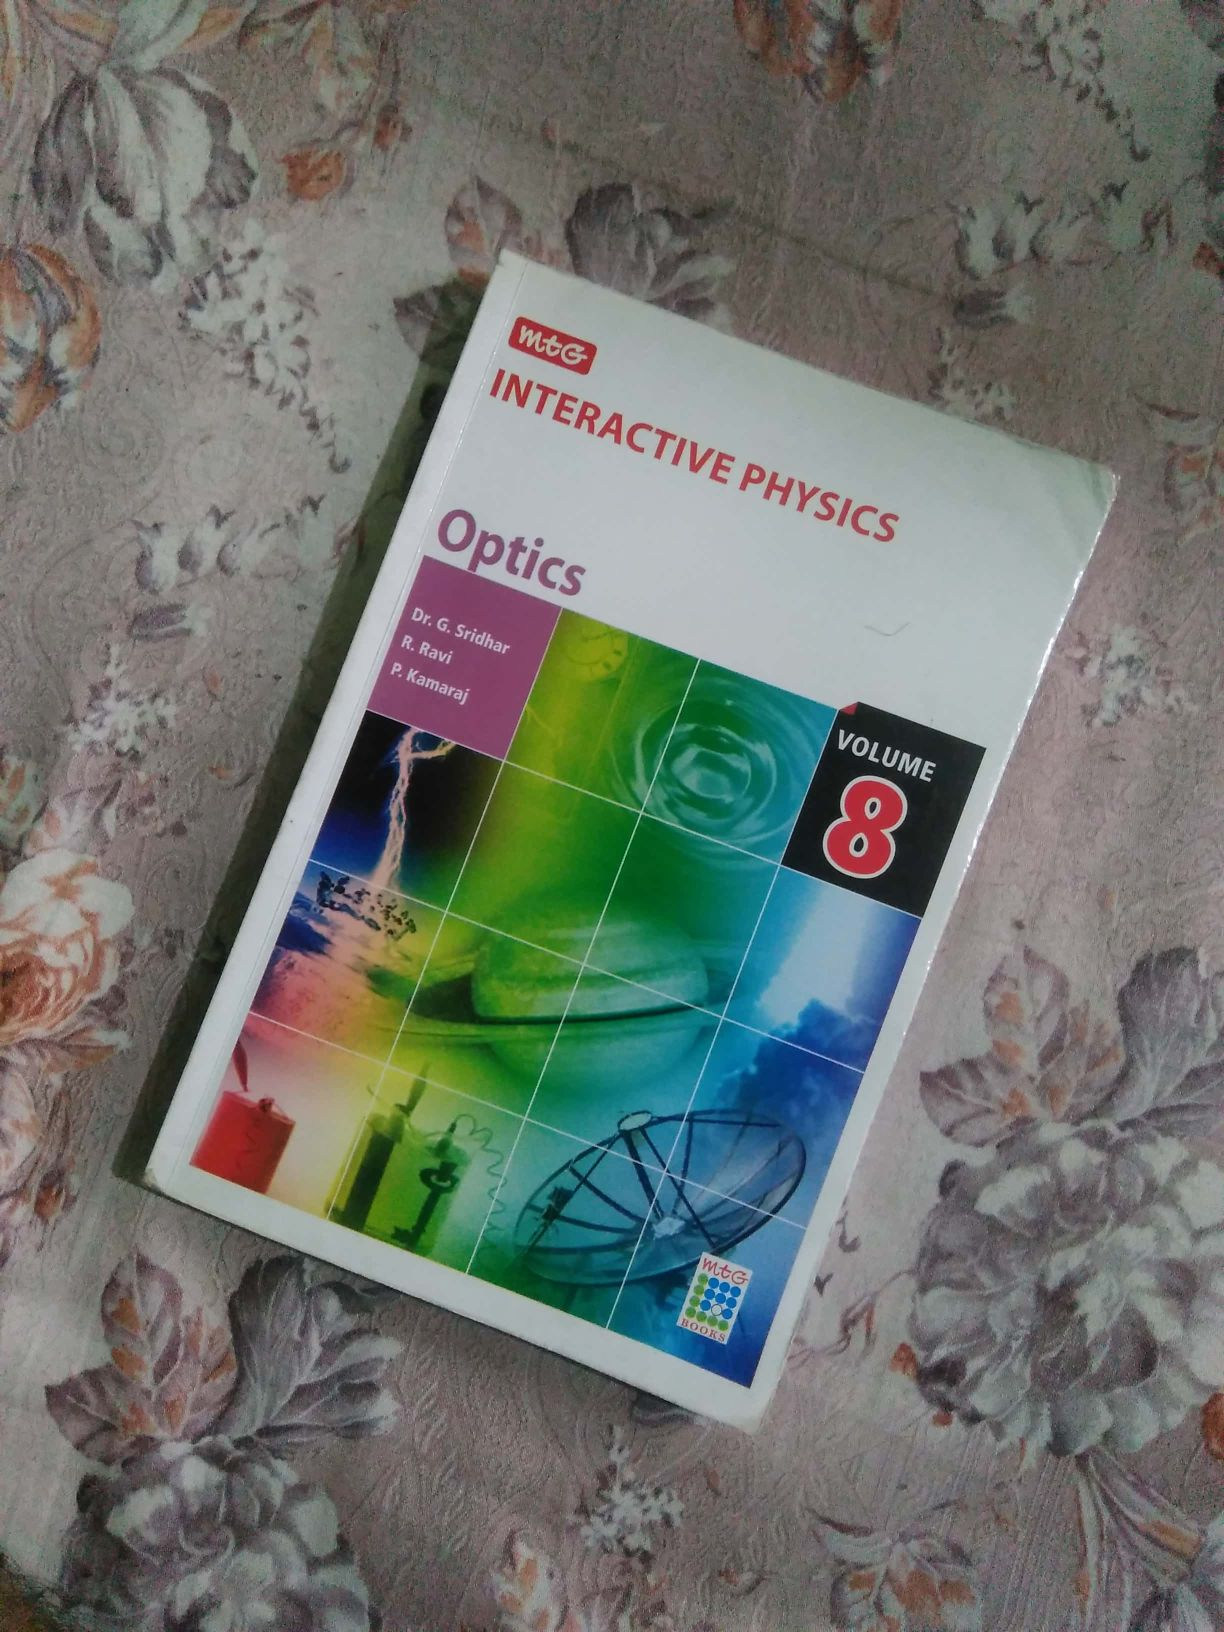optics: (198, 236, 1041, 1434)
